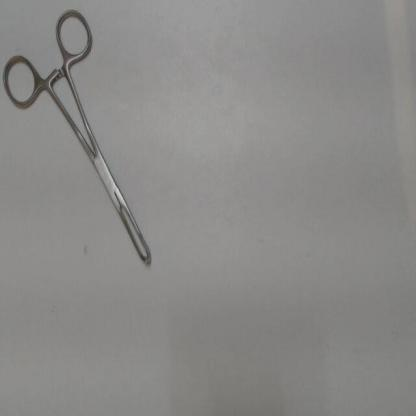Allis Tissue Forceps: (0, 4, 158, 279)
